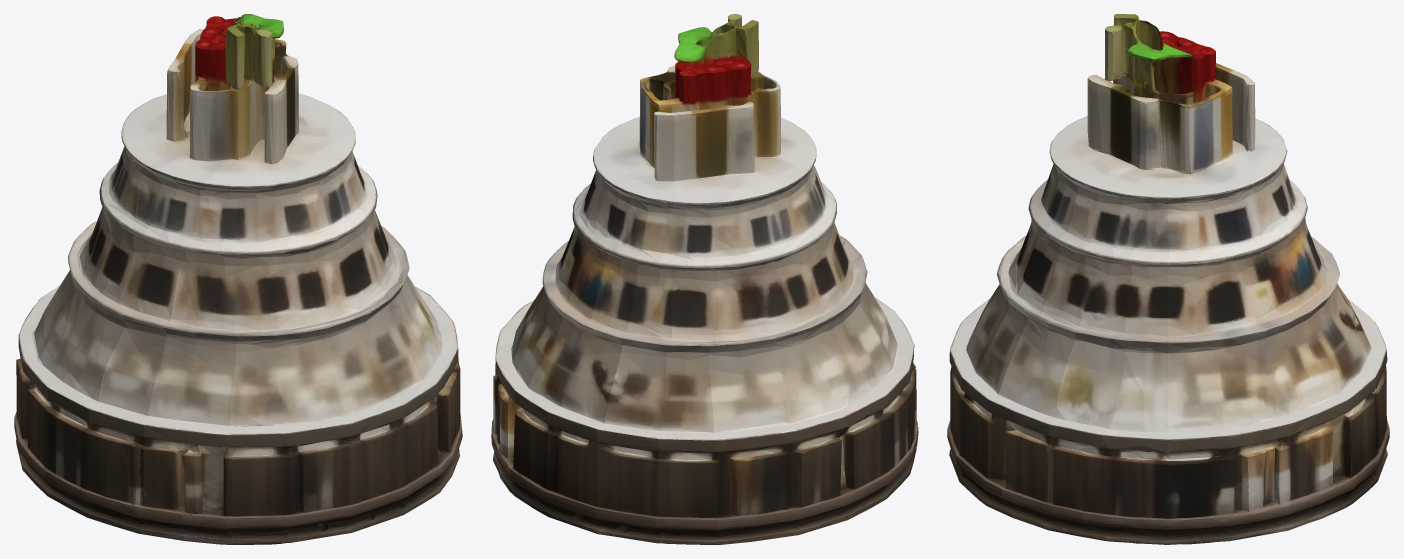
File: tiered_cake_stand_2.glb
3 renders of one model, left to right at view 1: azimuth 30°, elevation 25°; view 2: azimuth 150°, elevation 25°; view 3: azimuth 270°, elevation 25°, orthographic. The views are drawn at different scales.
Parts seen in each view (by area): view 1: geometry_0; view 2: geometry_0; view 3: geometry_0.
Part boxes in pixels (bbox=[...]): geometry_0: bbox=[14, 14, 462, 544]; geometry_0: bbox=[491, 14, 918, 544]; geometry_0: bbox=[947, 14, 1389, 544].
Bounding box in the file's own units: 0.8972 × 0.9997 × 0.9113.
1 material, 1 textured.
